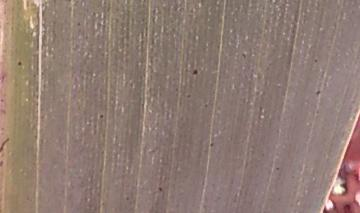tarspot: (95, 110, 107, 124), (155, 183, 166, 196), (189, 66, 201, 77), (12, 58, 25, 68), (313, 85, 322, 99), (238, 50, 250, 60), (272, 163, 283, 173), (122, 192, 132, 203), (207, 139, 216, 151), (312, 56, 320, 67), (184, 92, 193, 101)
